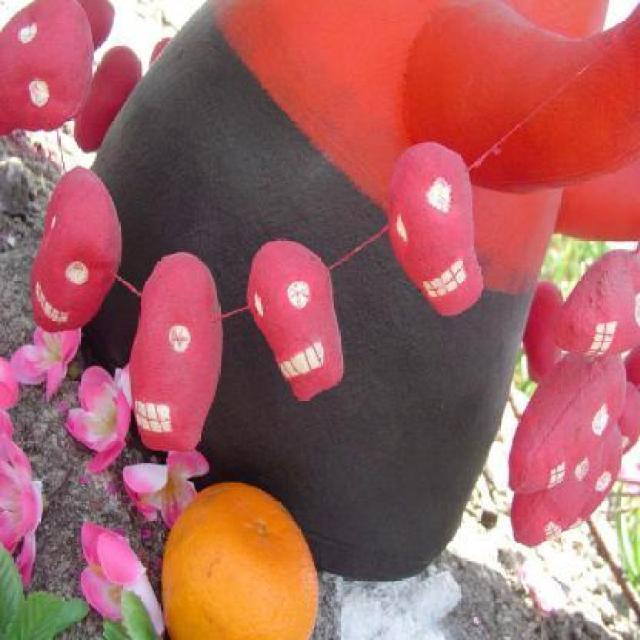Orange: (149, 486, 323, 637)
